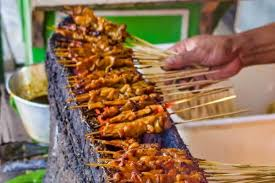sate: (41, 1, 218, 183)
